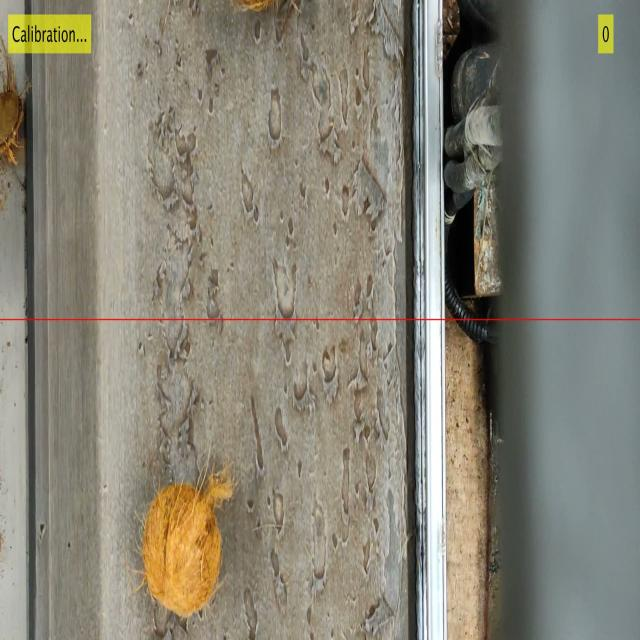Coconut-Conveyor-Belt: (142, 484, 225, 618)
